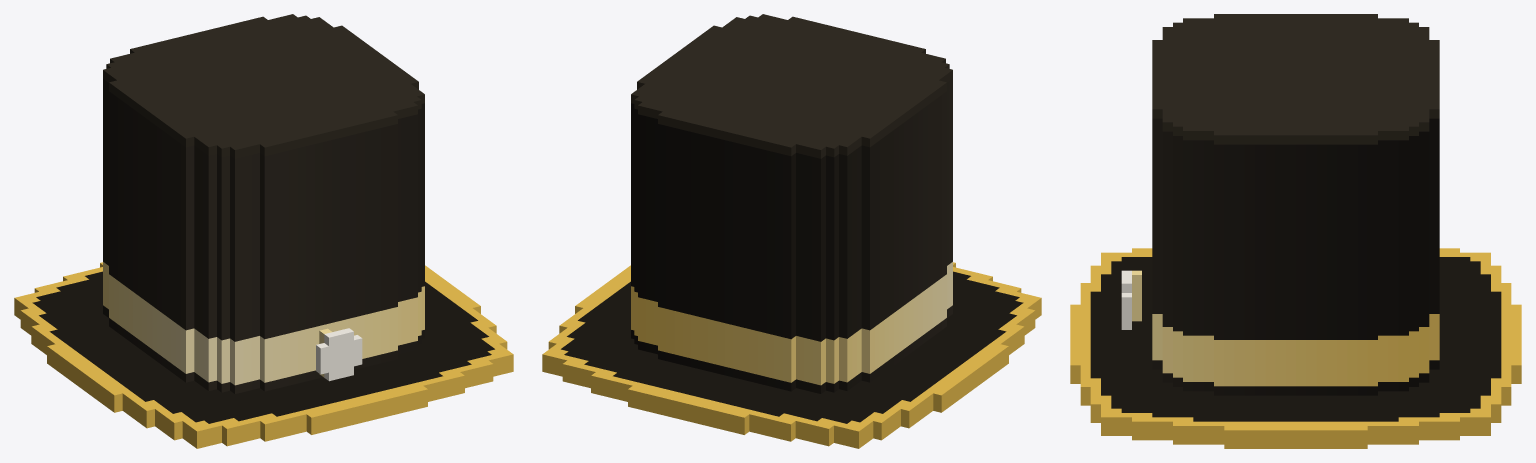
The model's file is gold_tophat_hat.glb.
3 renders of one model, left to right at view 1: azimuth 30°, elevation 25°; view 2: azimuth 150°, elevation 25°; view 3: azimuth 270°, elevation 25°, orthographic. The views are drawn at different scales.
Parts seen in each view (by area): view 1: Gold Top Hat; view 2: Gold Top Hat; view 3: Gold Top Hat.
Part boxes in pixels (x1=…): Gold Top Hat: x1=14, y1=14, x2=513, y2=448; Gold Top Hat: x1=542, y1=14, x2=1041, y2=448; Gold Top Hat: x1=1070, y1=14, x2=1521, y2=448.
Size of the model in its own units: 0.6875 by 0.4688 by 0.6875.
1 material, 1 textured.
